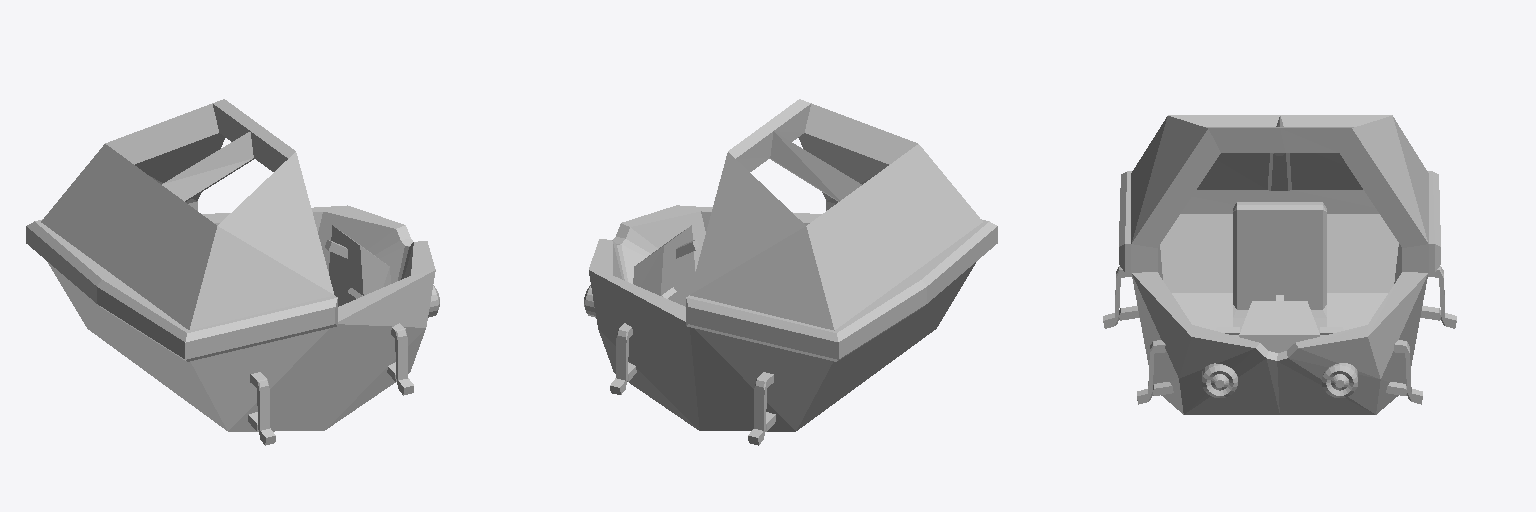
The model's file is basic_kart.obj.
3 renders of one model, left to right at view 1: azimuth 30°, elevation 25°; view 2: azimuth 150°, elevation 25°; view 3: azimuth 270°, elevation 25°, orthographic.
Visible parts, largest first — view 1: pasted__polySurface20; view 2: pasted__polySurface20; view 3: pasted__polySurface20.
Part boxes in pixels (x1,y1,x2,y2): pasted__polySurface20: (26, 99, 439, 445); pasted__polySurface20: (584, 99, 997, 445); pasted__polySurface20: (1103, 115, 1456, 414).
Size of the model in its own units: 6.18 by 4.82 by 5.95.